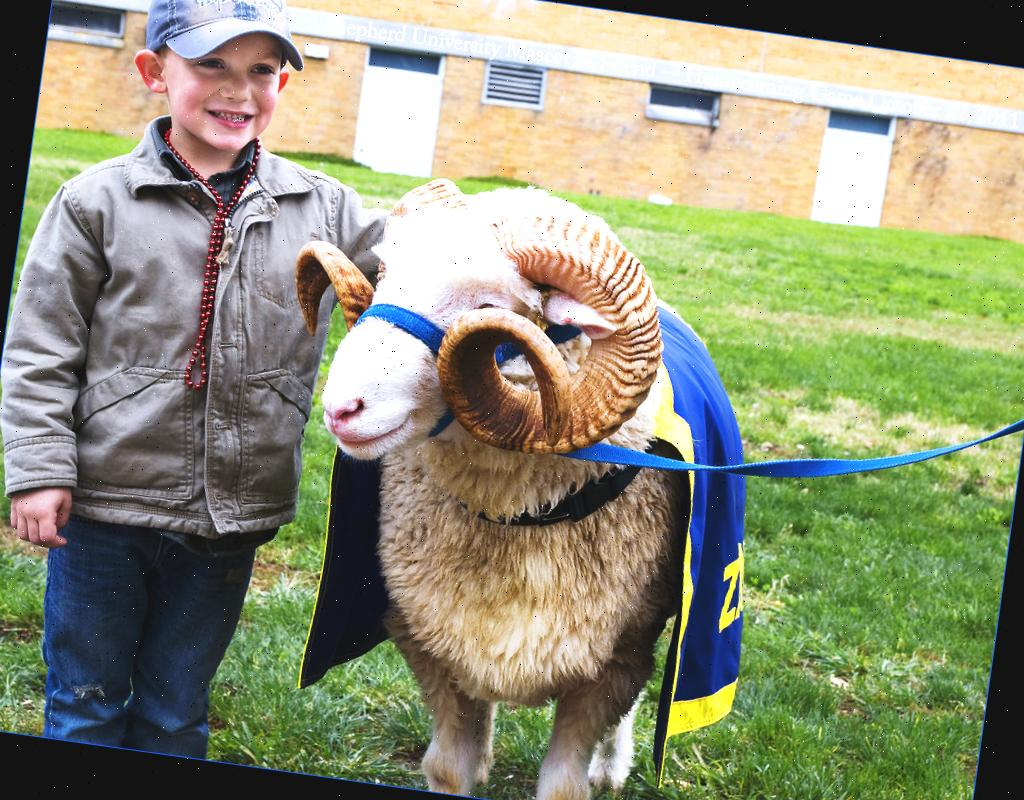Sheep: (220, 148, 737, 800)
